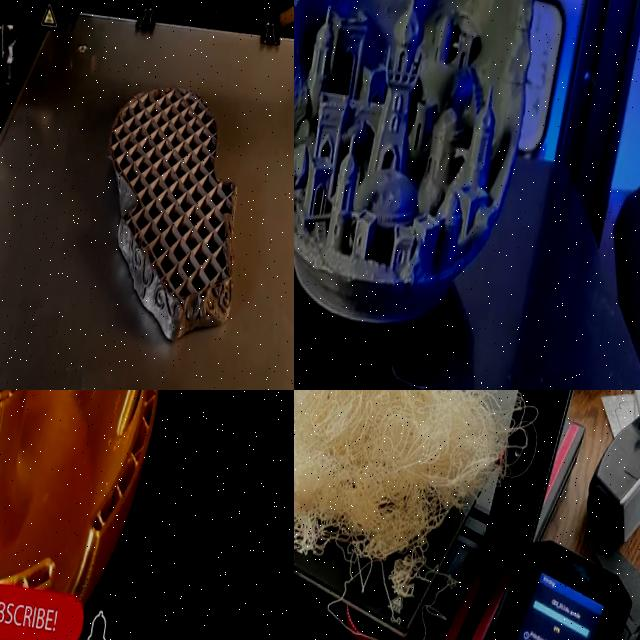spaghetti: (294, 390, 518, 634)
